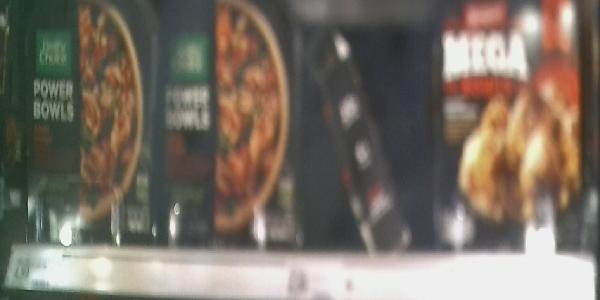pizza1: (437, 2, 599, 254), (4, 2, 154, 248), (155, 1, 305, 247)
